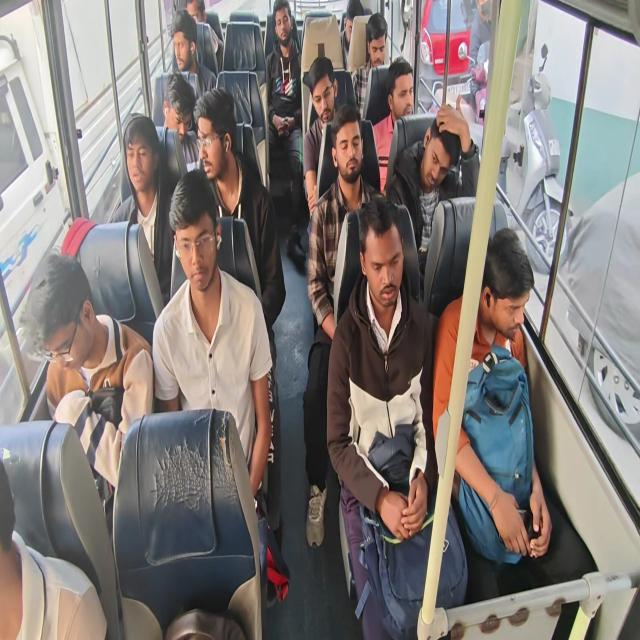person: (25, 282, 93, 389), (169, 195, 221, 295), (360, 213, 403, 308), (490, 265, 530, 344), (199, 97, 237, 176), (422, 123, 454, 202), (389, 60, 418, 127), (123, 127, 153, 191), (159, 89, 189, 140), (309, 68, 336, 120), (336, 130, 364, 179), (268, 2, 297, 45), (181, 0, 211, 32), (340, 8, 366, 44), (171, 34, 196, 71), (368, 24, 390, 64)
